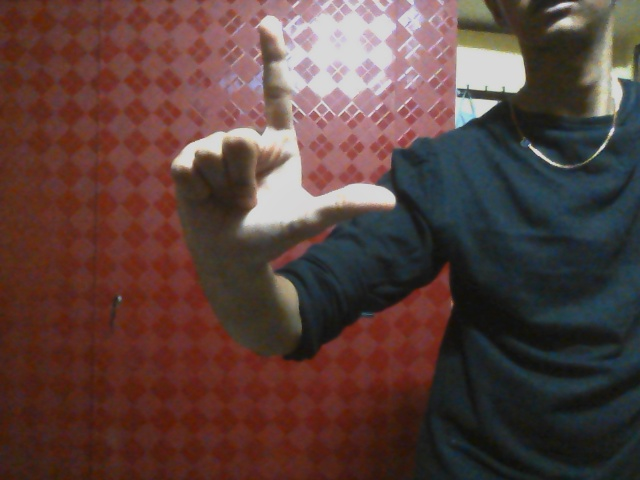L: (170, 18, 396, 251)
